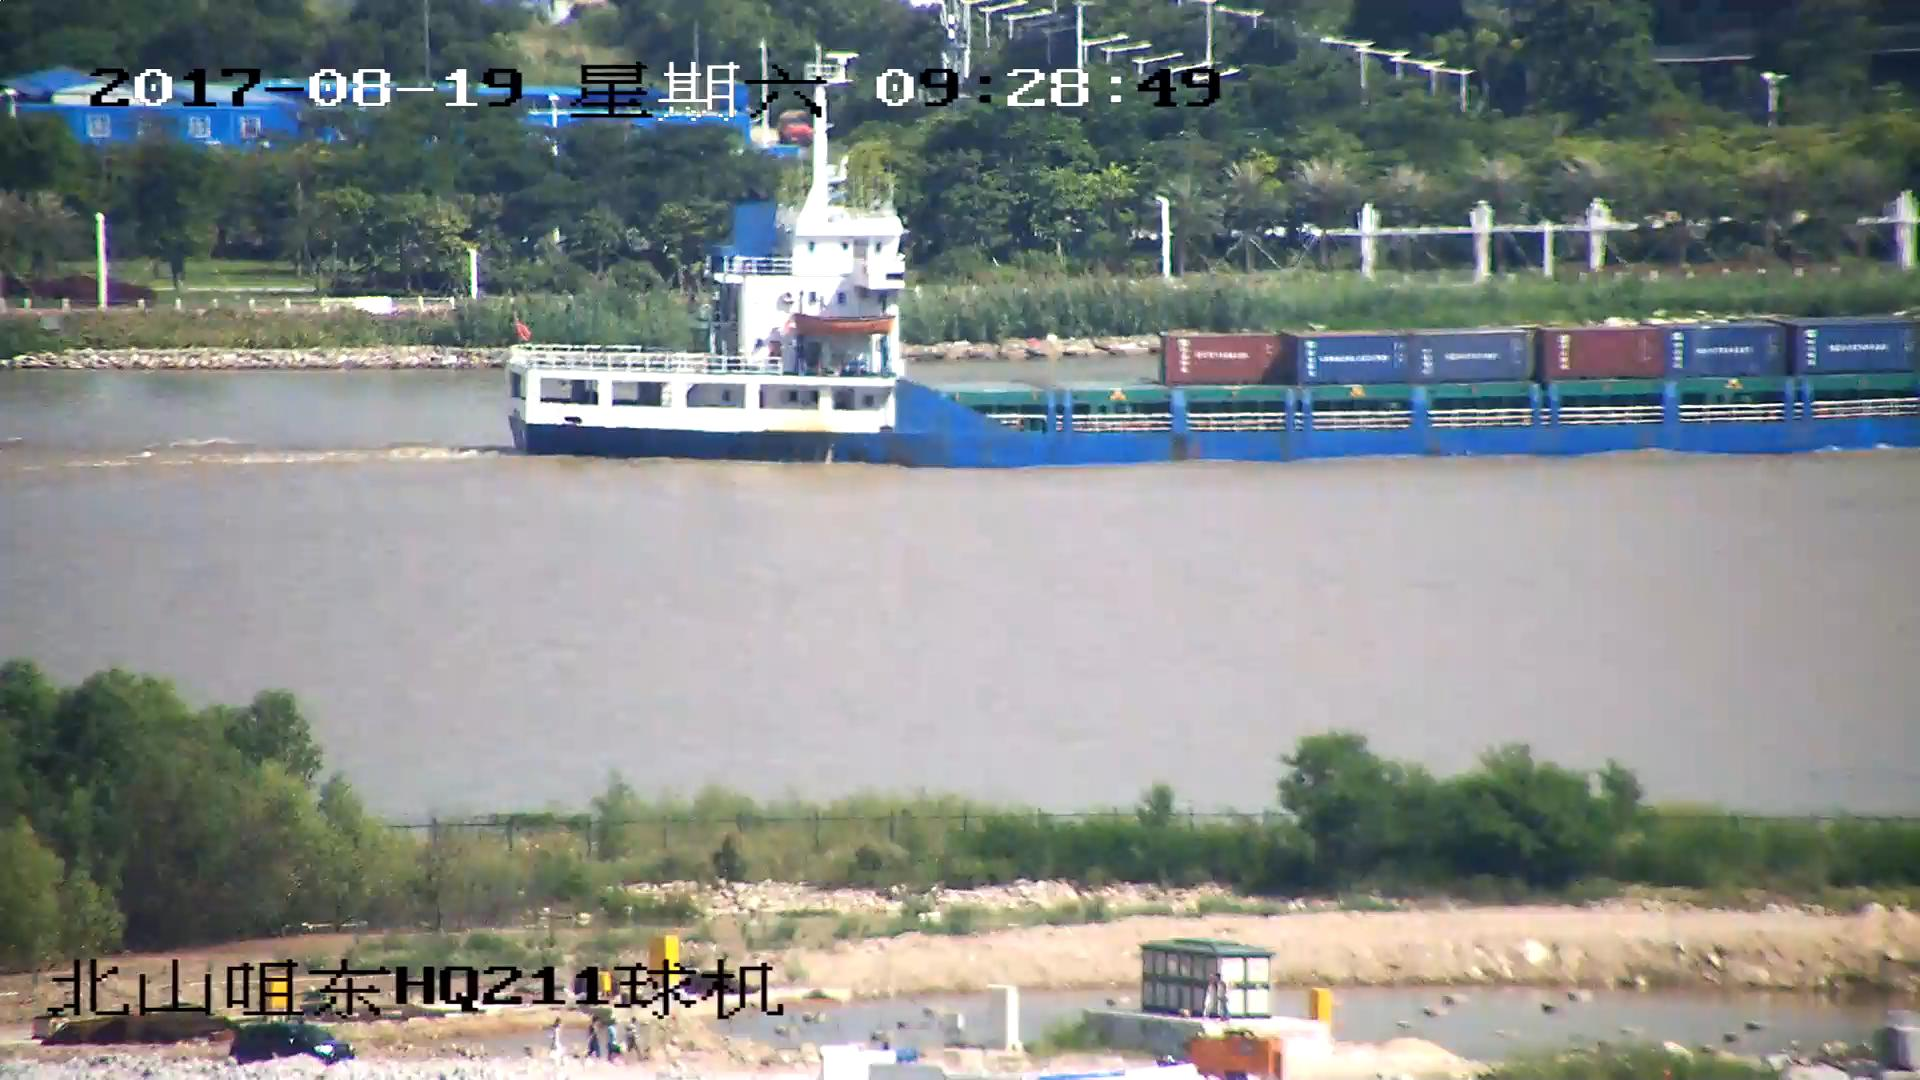general cargo ship: (504, 114, 1920, 467)
